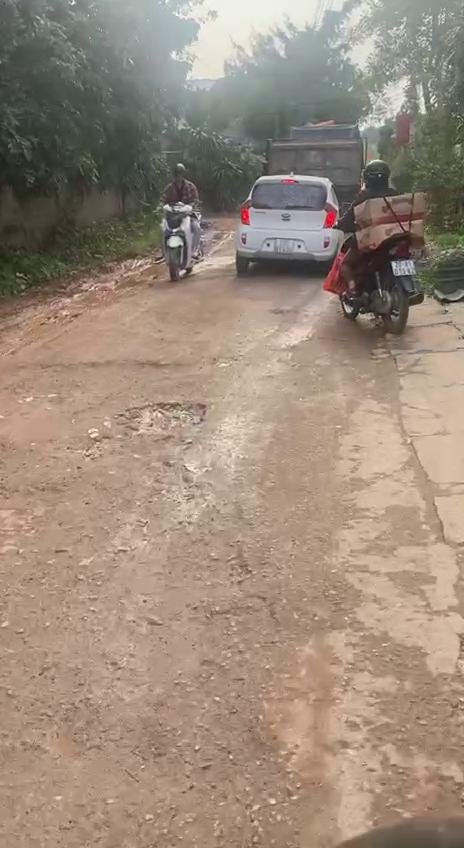pothole: (110, 398, 210, 446)
